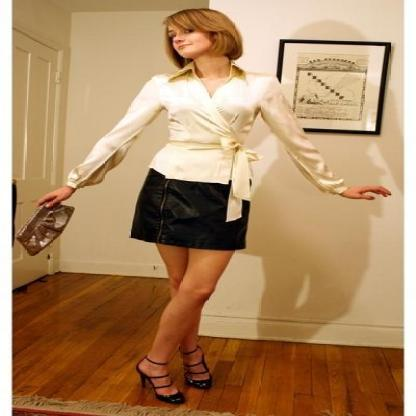bag: (12, 192, 75, 256)
shirt: (64, 76, 348, 221)
shoe: (162, 364, 219, 405)
